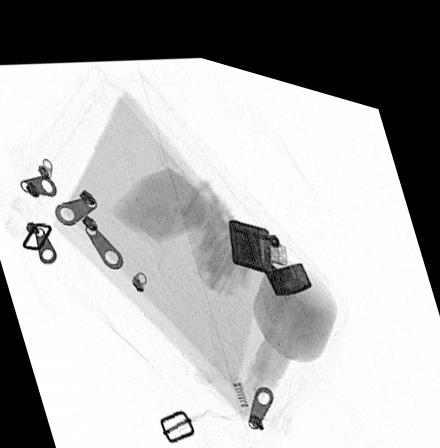Lighter: (228, 205, 313, 279)
